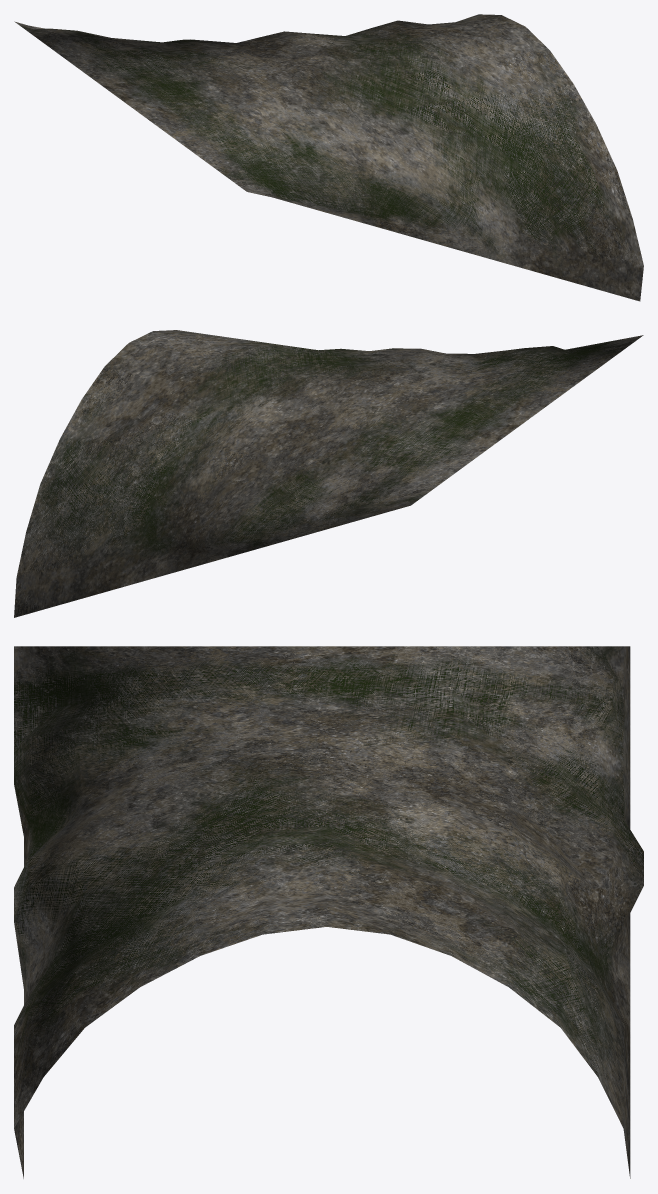
File: underground_ceiling_02.fbx
3 renders of one model, top to bottom at view 1: azimuth 30°, elevation 25°; view 2: azimuth 150°, elevation 25°; view 3: azimuth 270°, elevation 25°, orthographic. The views are drawn at different scales.
Visible parts, largest first — view 1: underground_ceiling_07; view 2: underground_ceiling_07; view 3: underground_ceiling_07.
Part boxes in pixels (x1,y1,x2,y2): underground_ceiling_07: (14,14,643,301); underground_ceiling_07: (14,330,643,617); underground_ceiling_07: (14,646,643,1178).
Size of the model in its own units: 330 by 166 by 343.
1 material, 1 textured.
